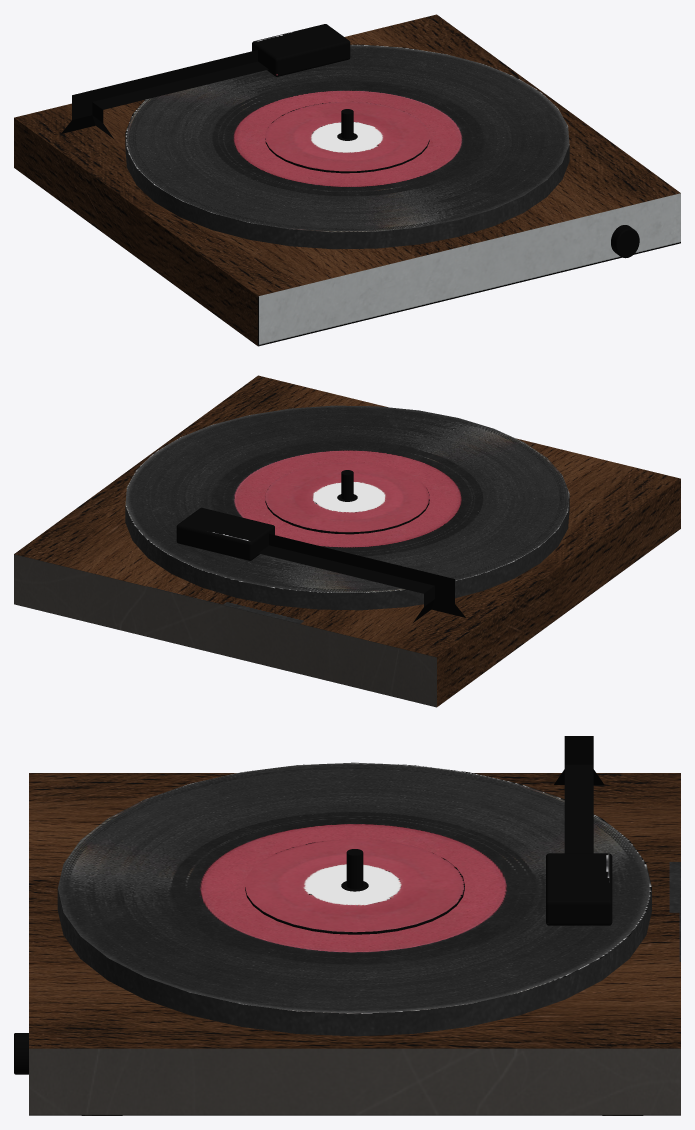
3 views of the same model, one above another, from view 1: azimuth 30°, elevation 25°; view 2: azimuth 150°, elevation 25°; view 3: azimuth 270°, elevation 25° (orthographic). The views are drawn at different scales.
Visible parts, largest first — view 1: Turntable; view 2: Turntable; view 3: Turntable.
Boxes of the visible parts, <box> form: Turntable: <box>14,14,680,346</box>; Turntable: <box>14,375,680,707</box>; Turntable: <box>14,736,680,1115</box>.
Bounding box in the file's own units: 0.2896 × 0.0693 × 0.2963.
Materials: 1 (1 with a texture image).
